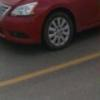cars: (0, 0, 100, 50)
